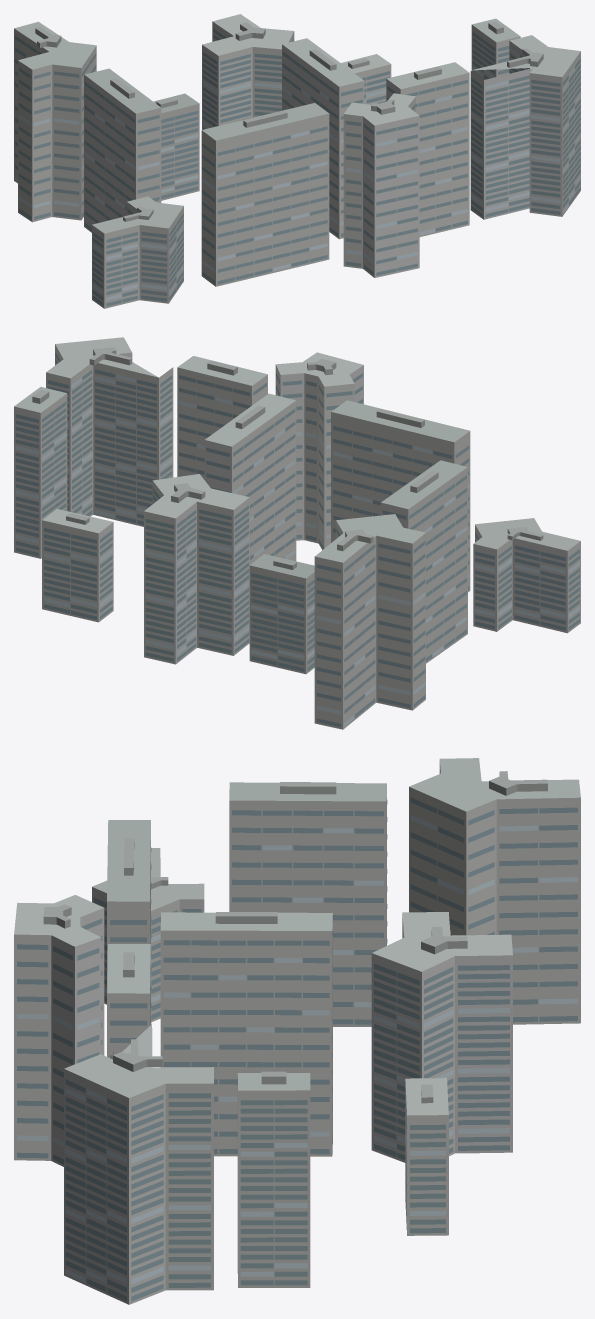
File: apt-a13611008.glb
3 views of the same model, one above another, from view 1: azimuth 30°, elevation 25°; view 2: azimuth 150°, elevation 25°; view 3: azimuth 270°, elevation 25° (orthographic). The views are drawn at different scales.
Parts seen in each view (by area): view 1: apt-a13611008; view 2: apt-a13611008; view 3: apt-a13611008.
Part boxes in pixels (x1,y1,x2,y2): apt-a13611008: [14, 14, 580, 308]; apt-a13611008: [14, 337, 580, 729]; apt-a13611008: [14, 758, 580, 1304].
Bounding box in the file's own units: 235 × 74 × 163.
